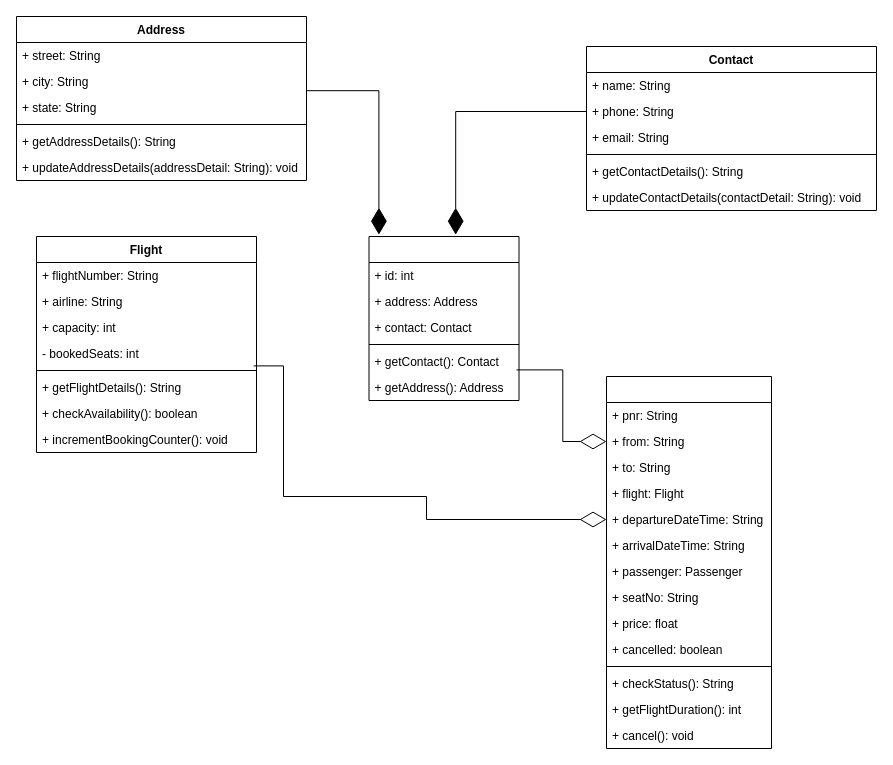
This 893x765 diagram has some shape labels left out. Here are the shapes that lost their labels. From the top down, the box of each, then its label:
(368, 236, 519, 400): Passenger
(606, 376, 772, 748): Ticket
